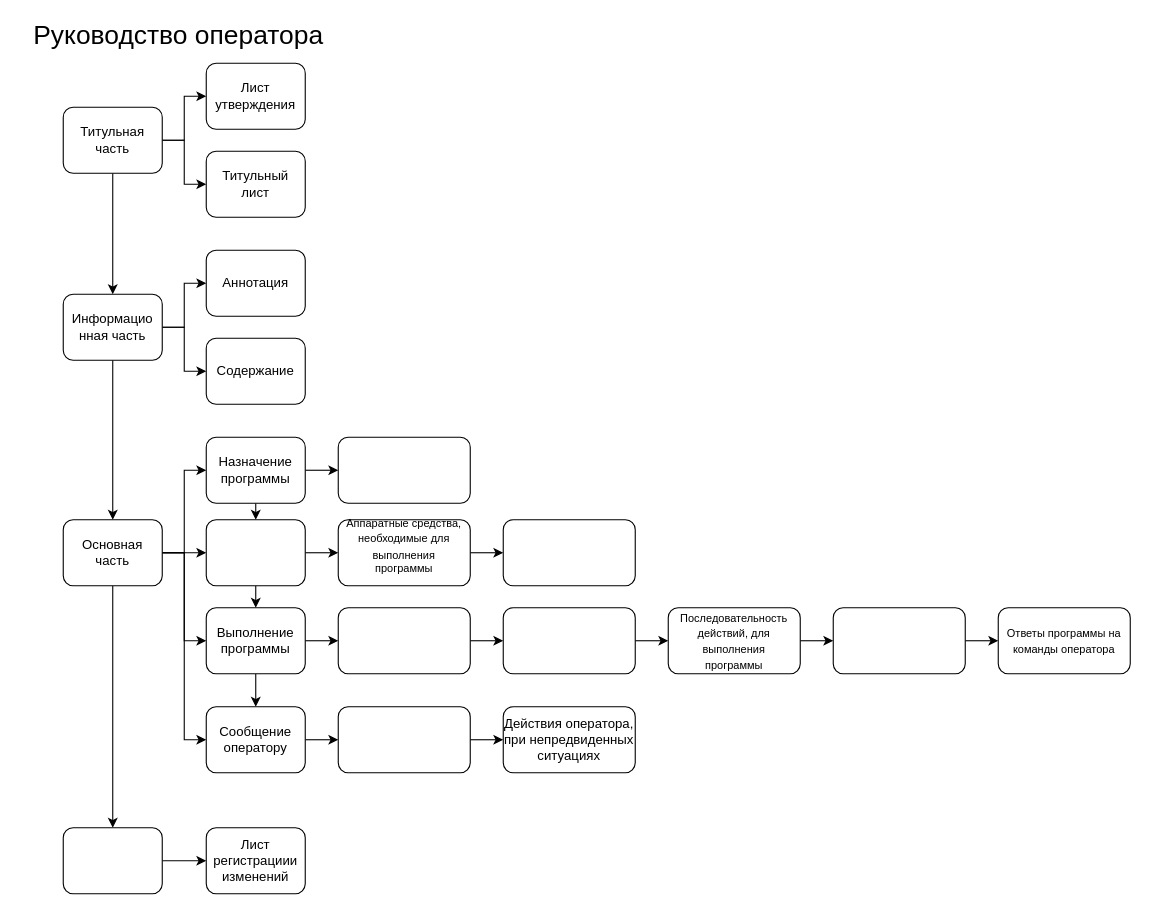
The diagram is 1150 pixels wide and 913 high, and some of its shapes have lost their labels. The shapes that lost their labels are listed below. From the top down, each one's centre as x and y in pixels, then its label:
At [403,469]: "Информация о назначении программы, ее функциях и применении".
At [255,552]: "Условия выполнения программы".
At [568,552]: "Программные средства, необходимые для выполнения программы".
At [403,640]: "Последовательность действий, для загрузки программы".
At [568,640]: "Последовательность действий, для запуска программы".
At [898,640]: "Последовательность действий, для завершения программы".
At [403,739]: "Тексты сообщений, выдаваемых программой".
At [112,860]: "Часть регистрациии изменений".
